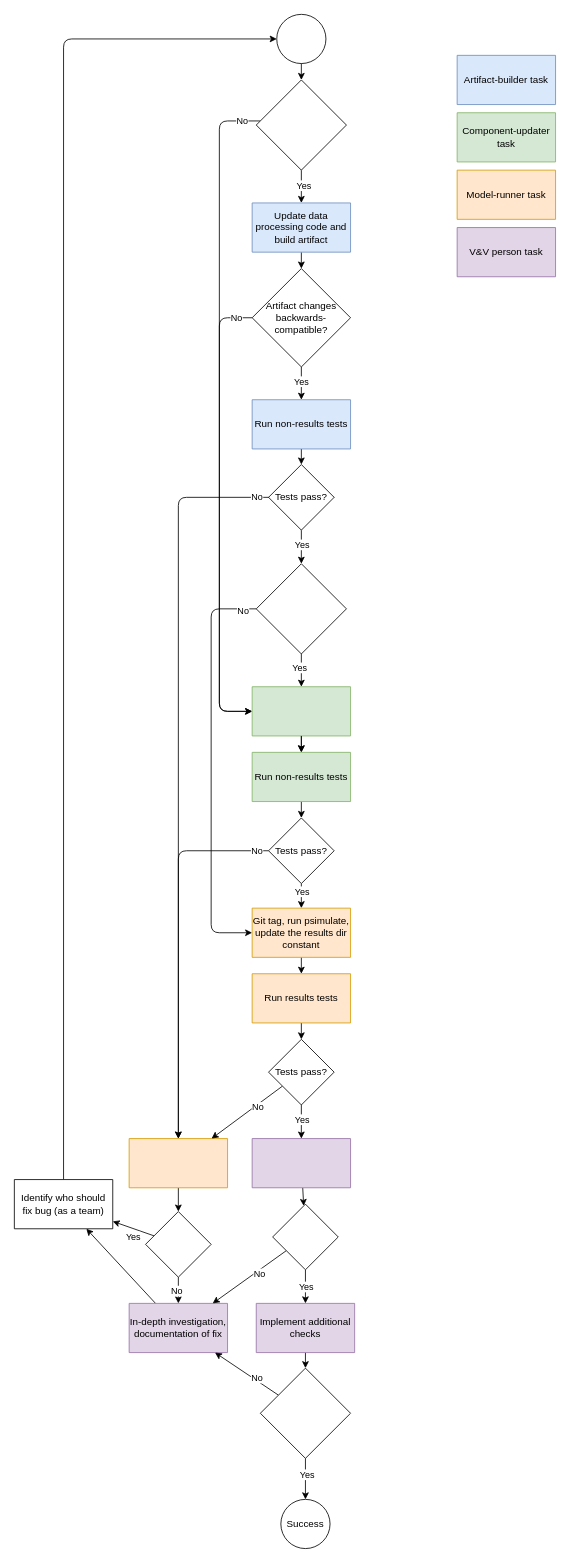
Image size: 570x1563. Some labels were removed from this diagram. Here are the shapes that lost their labels. From the top down, the centre of each, then its label:
At (301,39): "Start".
At (300,124): "Artifact changes necessary?".
At (300,608): "Component changes necessary?".
At (301,711): "Update components".
At (178,1163): "Post on Slack, do a quick investigation".
At (301,1163): "Review manual checks".
At (178,1244): "Found bug?".
At (305,1236): "Looks good?".
At (305,1412): "Tests pass + look good?".
